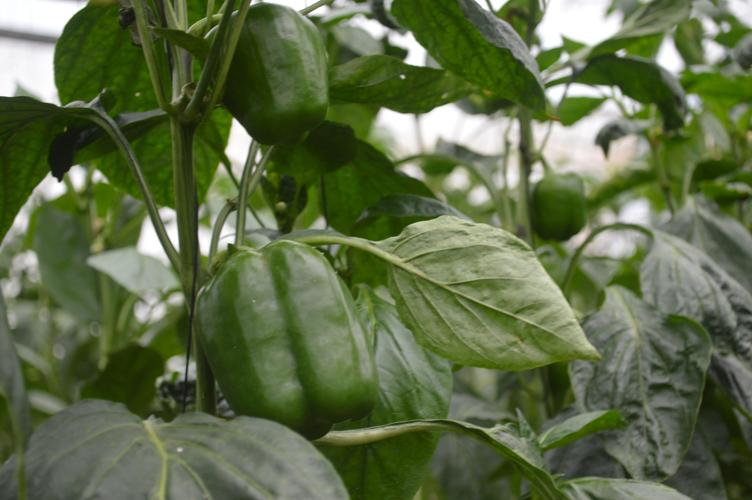BellPepper: (186, 246, 396, 427), (203, 6, 337, 140), (528, 172, 592, 250)
